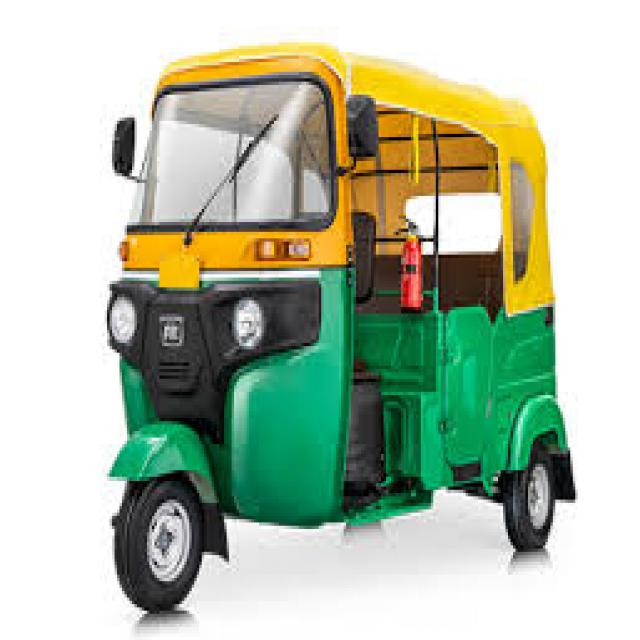Auto: (104, 39, 579, 594)
